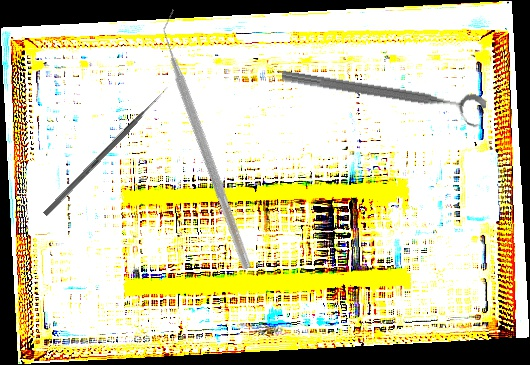Chopper: (73, 7, 347, 272)
Fixation Ring: (278, 64, 488, 130)
Pusher: (42, 85, 171, 217)
